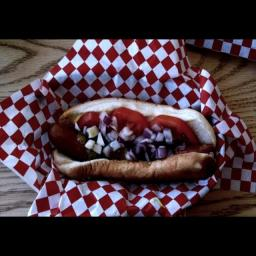hotdog: (48, 100, 219, 178)
